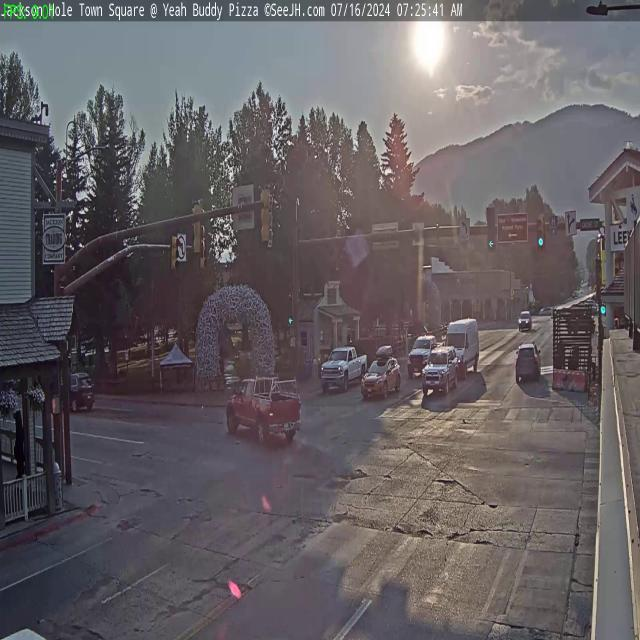pickup: (226, 372, 304, 446), (320, 344, 370, 392), (408, 333, 437, 374)
suv: (421, 350, 460, 398), (361, 356, 401, 401), (66, 370, 95, 412), (516, 340, 542, 380), (518, 310, 532, 330)
traffic light: (260, 184, 273, 243), (190, 199, 203, 256), (486, 207, 496, 249), (170, 233, 180, 272), (536, 214, 546, 249)
van: (448, 318, 486, 382)
